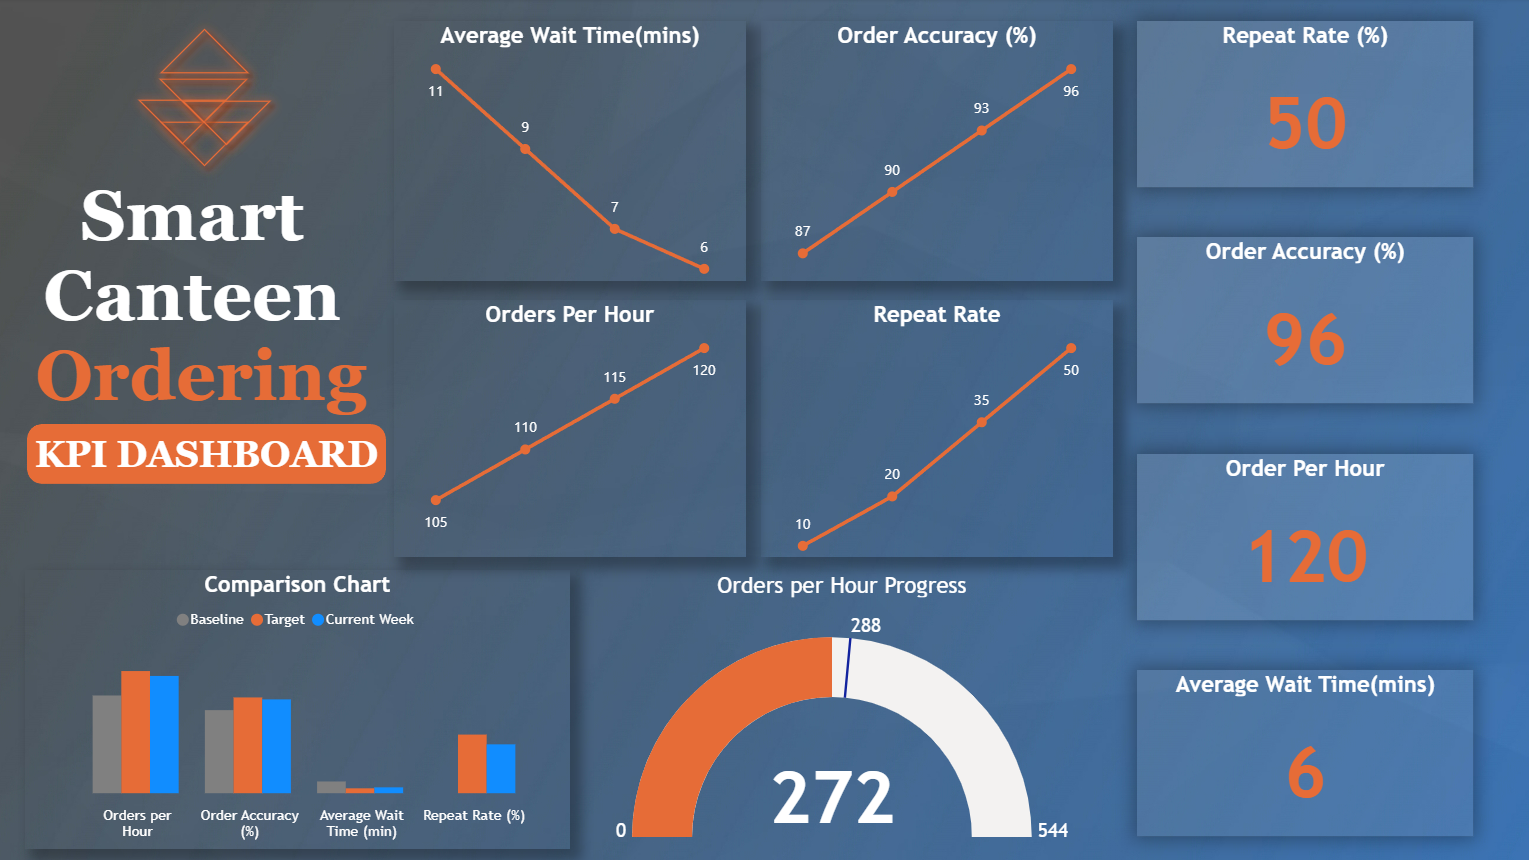

This screenshot's page, from the dashboard's own definition file:
{"tool":"powerbi","page":{"name":"Page 1","canvas":[1280,720],"ordinal":0},"visuals":[{"type":"card","title":"Average Wait Time(mins)","fields":{"Values":["Sum(Summary.Current (Week4))"]},"box":[950.3,561.2,281.1,139.1],"z":0},{"type":"card","title":"Order Per Hour","fields":{"Values":["Sum(Summary.Current (Week4))"]},"box":[950.3,380.6,281.1,139.1],"z":1000},{"type":"card","title":"Order Accuracy (%)","fields":{"Values":["Sum(Summary.Current (Week4))"]},"box":[950.3,200,281.1,139.1],"z":2000},{"type":"card","title":"Repeat Rate (%)","fields":{"Values":["Sum(Summary.Current (Week4))"]},"box":[950.3,19.5,281.1,139.1],"z":3000},{"type":"lineChart","title":"Order Accuracy (%)","fields":{"Category":["WeekTable.Week"],"Y":["Sum(Metrics.Value)"]},"box":[636.5,19.2,294,217.2],"z":4000},{"type":"lineChart","title":"Orders Per Hour","fields":{"Category":["WeekTable.Week"],"Y":["Sum(Metrics.Value)"]},"box":[329.9,252.3,294,215.5],"z":5000},{"type":"lineChart","title":"Repeat Rate","fields":{"Category":["WeekTable.Week"],"Y":["Sum(Metrics.Value)"]},"box":[636.5,252.3,294,215.5],"z":6000},{"type":"clusteredColumnChart","title":"Comparison Chart","fields":{"Category":["Summary.Metric"],"Y":["Sum(Summary.Baseline)","Sum(Summary.Target)","Sum(Summary.Current (Week4))"]},"box":[21.4,477.6,455.2,233.4],"z":7000},{"type":"lineChart","title":"Average Wait Time(mins)","fields":{"Category":["WeekTable.Week"],"Y":["Sum(Metrics.Value)"]},"box":[329.9,19.2,294,217.2],"z":8000},{"type":"gauge","title":"Orders per Hour Progress","fields":{"Y":["Sum(Summary.Current (Week4))"],"TargetValue":["Sum(Summary.Target)"]},"box":[477.8,478.6,452.7,232.2],"z":9000},{"type":"textbox","box":[5.8,142.8,325.8,217.2],"z":10000},{"type":"shape","box":[125.3,86.9,92.7,70.2],"z":12000},{"type":"shape","box":[23.4,355.8,299.9,50.1],"z":13000},{"type":"shape","box":[106.9,68.5,92.7,70.2],"z":14000},{"type":"shape","box":[124.5,51,92.7,70.2],"z":15000},{"type":"shape","box":[143.7,69.3,92.7,70.2],"z":16000},{"type":"shape","box":[125.3,9.2,92.7,70.2],"z":17000}]}

Visuals, with their boxes in screenshot pixels (x1, y1, x2, y2), scaled from the page's 1280x720 canvas onto the 1529x860 screenshot:
"Average Wait Time(mins)" card: <region>1135, 670, 1471, 836</region>
"Order Per Hour" card: <region>1135, 455, 1471, 621</region>
"Order Accuracy (%)" card: <region>1135, 239, 1471, 405</region>
"Repeat Rate (%)" card: <region>1135, 23, 1471, 189</region>
"Order Accuracy (%)" lineChart: <region>760, 23, 1112, 282</region>
"Orders Per Hour" lineChart: <region>394, 301, 745, 559</region>
"Repeat Rate" lineChart: <region>760, 301, 1112, 559</region>
"Comparison Chart" clusteredColumnChart: <region>26, 570, 569, 849</region>
"Average Wait Time(mins)" lineChart: <region>394, 23, 745, 282</region>
"Orders per Hour Progress" gauge: <region>571, 572, 1112, 849</region>
textbox: <region>7, 171, 396, 430</region>
shape: <region>150, 104, 260, 188</region>
shape: <region>28, 425, 386, 485</region>
shape: <region>128, 82, 238, 166</region>
shape: <region>149, 61, 259, 145</region>
shape: <region>172, 83, 282, 167</region>
shape: <region>150, 11, 260, 95</region>
